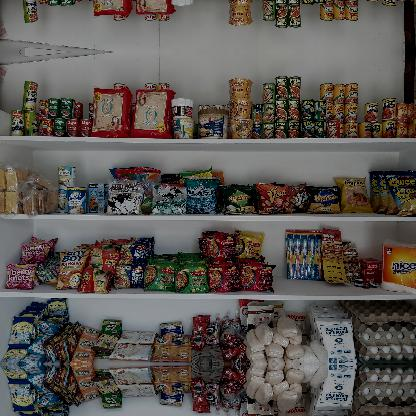Lady-s-Choice: (198, 108, 228, 138)
